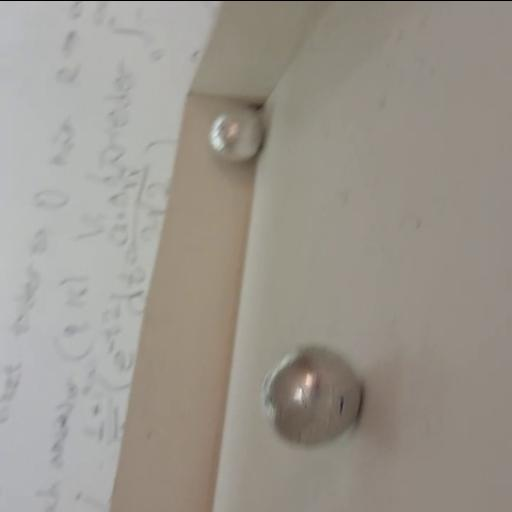alive: (260, 344, 362, 448), (208, 108, 264, 162)
